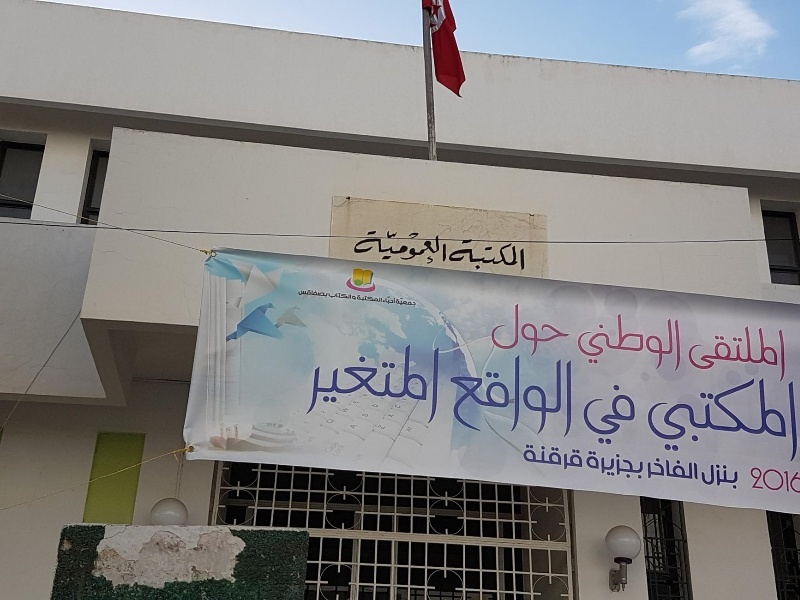text: (465, 349, 480, 438), (481, 349, 496, 438), (497, 349, 512, 438), (513, 349, 528, 438), (529, 349, 544, 438), (545, 349, 560, 438), (641, 379, 656, 461), (657, 379, 672, 461), (673, 379, 688, 461), (689, 379, 704, 461), (705, 379, 720, 461), (721, 379, 736, 461), (737, 379, 752, 461), (753, 379, 768, 461), (769, 379, 784, 461), (321, 344, 336, 424), (337, 344, 352, 424), (353, 344, 368, 424), (369, 344, 384, 424), (385, 344, 400, 424), (401, 344, 416, 424), (417, 344, 432, 424), (561, 349, 574, 438), (593, 379, 608, 451), (609, 379, 624, 451), (625, 379, 640, 451), (785, 379, 798, 461), (769, 323, 785, 382), (577, 314, 592, 376), (593, 314, 608, 376), (609, 314, 624, 376), (625, 314, 640, 376), (641, 314, 656, 376), (657, 314, 672, 376), (454, 349, 464, 438), (689, 323, 704, 382), (705, 323, 720, 382), (721, 323, 736, 382), (737, 323, 752, 382), (753, 323, 768, 382), (497, 304, 512, 359), (513, 304, 528, 359), (529, 304, 544, 359), (545, 304, 560, 359), (641, 379, 652, 451), (433, 344, 441, 424), (369, 227, 384, 266), (385, 227, 400, 266), (401, 227, 416, 266), (417, 227, 432, 266), (313, 344, 320, 424), (433, 227, 447, 266), (465, 239, 480, 274), (481, 239, 496, 274), (497, 239, 512, 274), (673, 314, 681, 376), (593, 450, 608, 482), (609, 450, 624, 482), (625, 450, 640, 482), (513, 239, 526, 274), (529, 442, 544, 472), (545, 442, 560, 472), (561, 442, 576, 472), (561, 304, 569, 359), (705, 463, 720, 490), (721, 463, 736, 490), (657, 458, 672, 485), (673, 458, 688, 485), (753, 467, 768, 493), (769, 467, 784, 493), (454, 239, 464, 274), (785, 467, 798, 493), (689, 458, 700, 485), (492, 304, 496, 359), (648, 458, 656, 485), (577, 442, 584, 472), (363, 227, 368, 266), (586, 450, 592, 482), (401, 297, 417, 308), (641, 450, 646, 482), (590, 379, 592, 451), (305, 289, 320, 298), (369, 295, 383, 304), (337, 293, 352, 301), (385, 296, 395, 306), (357, 295, 368, 304), (525, 442, 528, 472), (737, 463, 740, 490), (353, 296, 368, 301), (328, 293, 336, 301), (321, 289, 328, 298), (750, 467, 752, 493), (299, 289, 304, 298), (396, 297, 400, 308)
